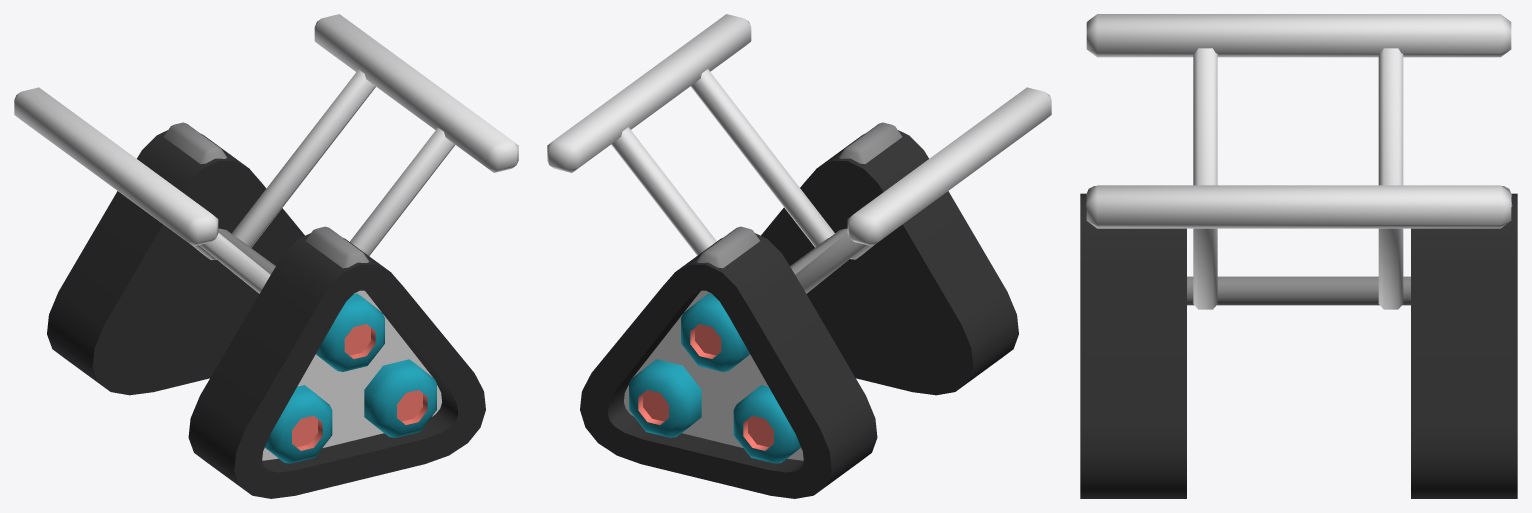
File: caterpillar_3.fbx
3 views of the same model, side by side, from view 1: azimuth 30°, elevation 25°; view 2: azimuth 150°, elevation 25°; view 3: azimuth 270°, elevation 25° (orthographic). The views are drawn at different scales.
Visible parts, largest first — view 1: caterpillar_3; view 2: caterpillar_3; view 3: caterpillar_3.
Boxes of the visible parts, x1=… form: caterpillar_3: x1=14, y1=14, x2=518, y2=498; caterpillar_3: x1=547, y1=14, x2=1051, y2=498; caterpillar_3: x1=1080, y1=14, x2=1517, y2=498.
Bounding box in the file's own units: 199 × 169 × 195.
